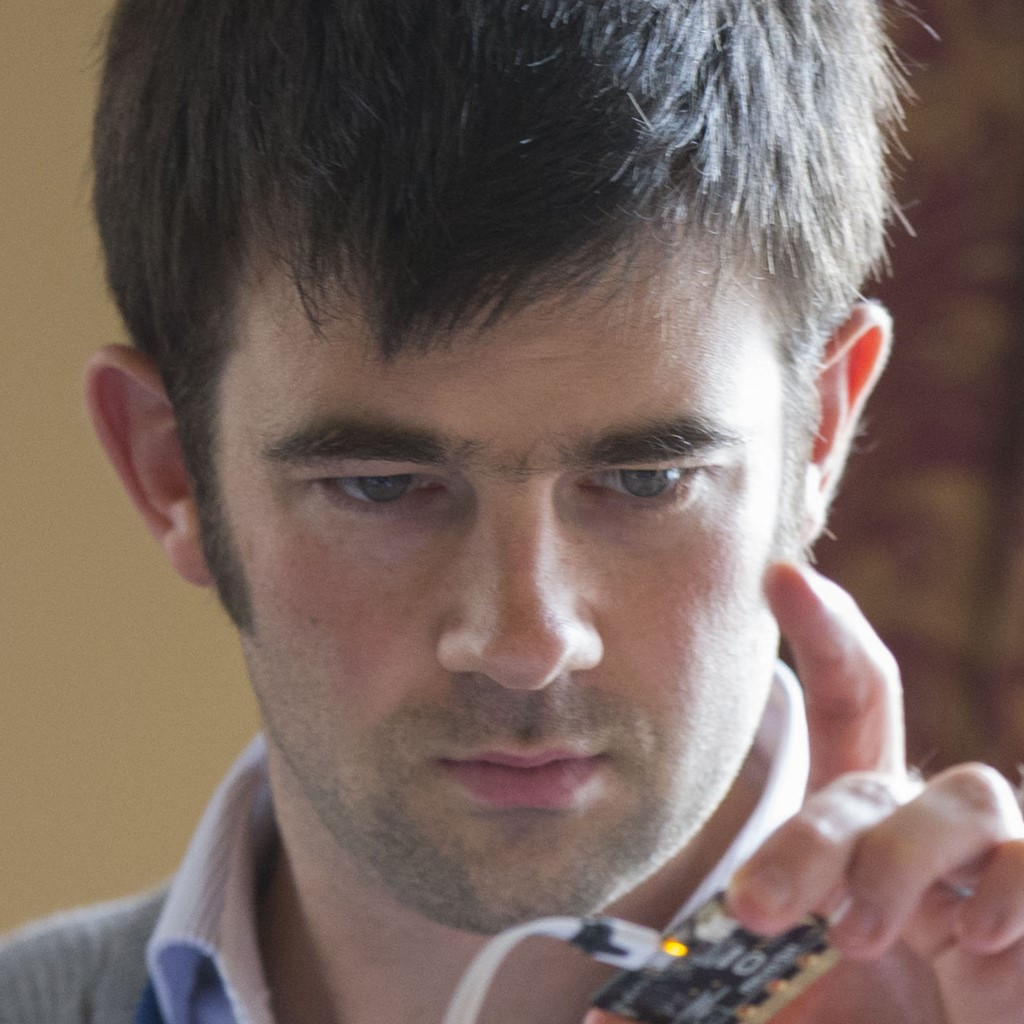sin_mascara: (202, 148, 833, 977)
